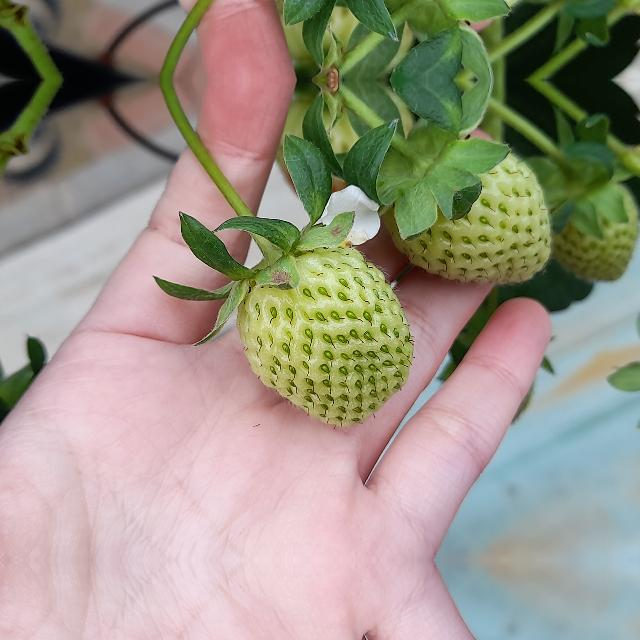Health_25: (236, 246, 414, 426), (378, 128, 556, 286), (378, 0, 555, 32)
